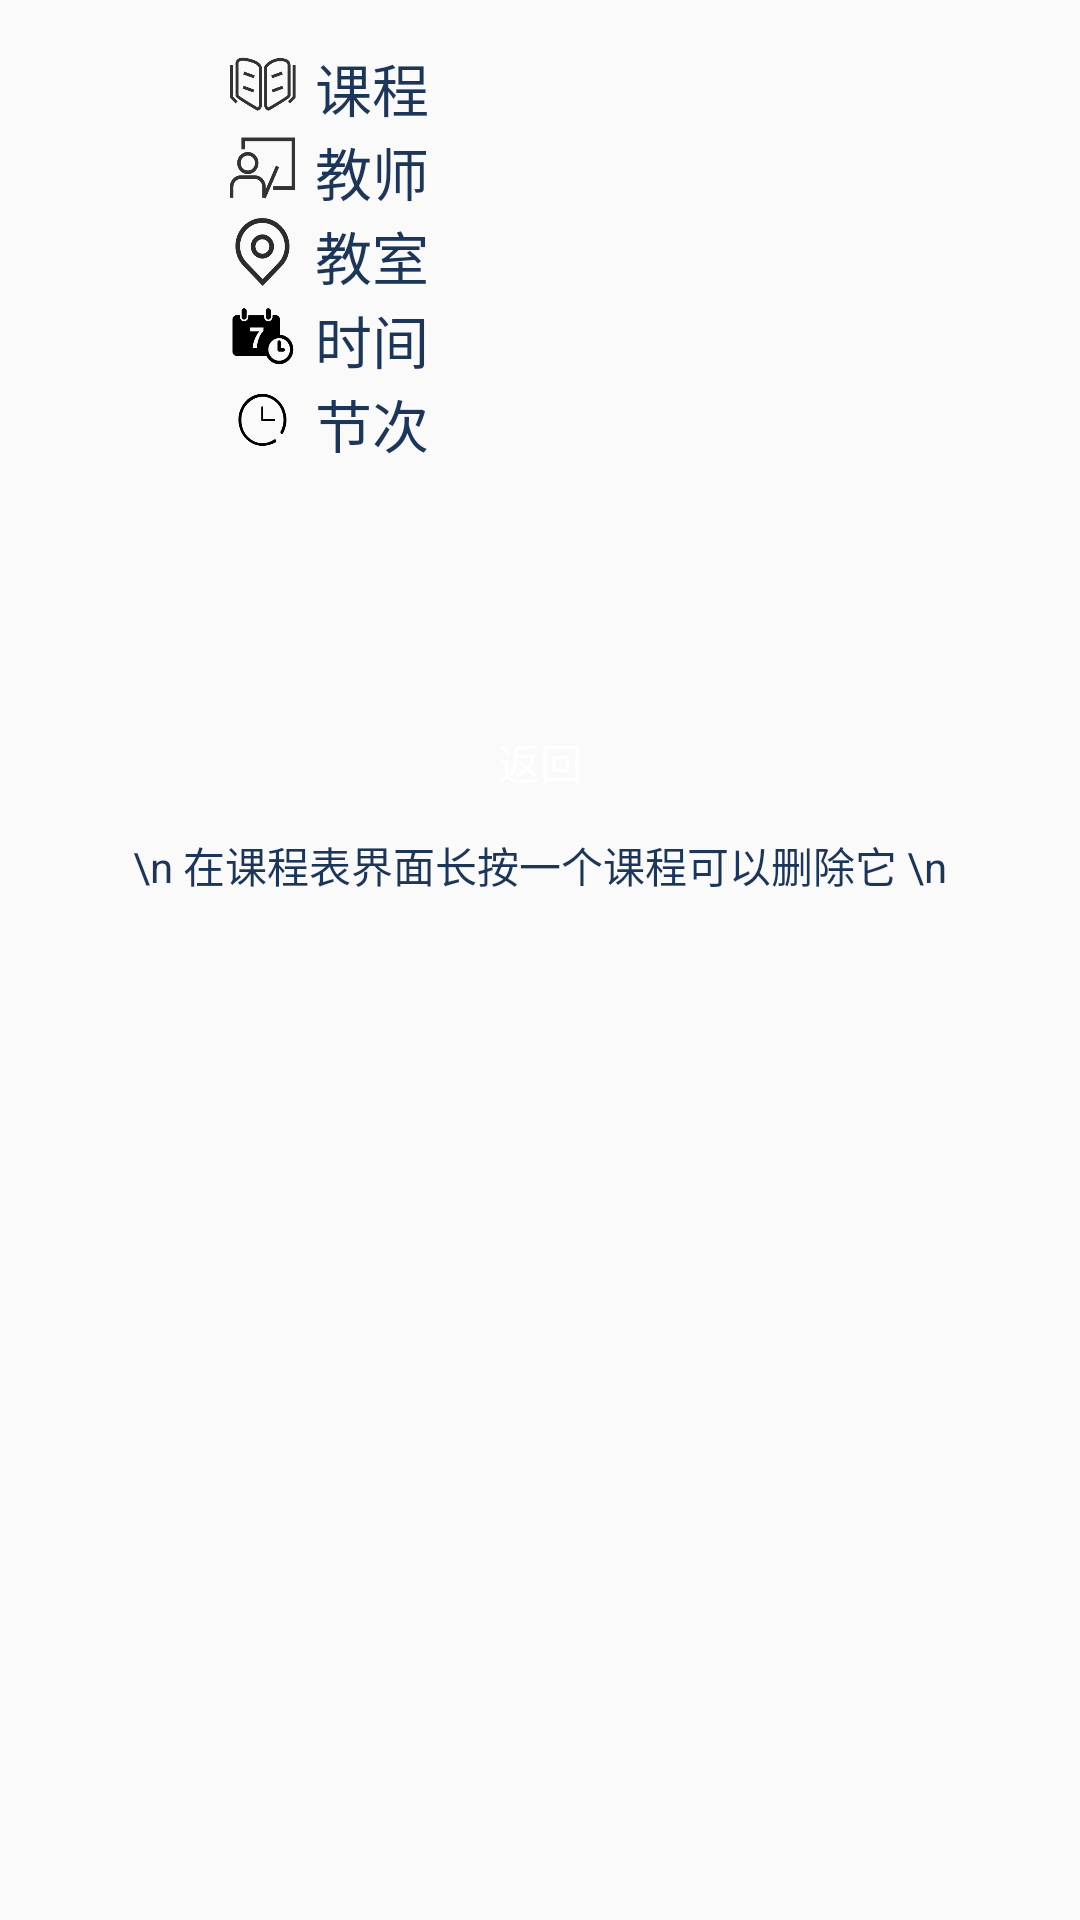

Icons on this 1080 x 1920 Android screen, each with the point to tap as point (x, y):
classroom: point (262, 252)
teacher: point (262, 168)
